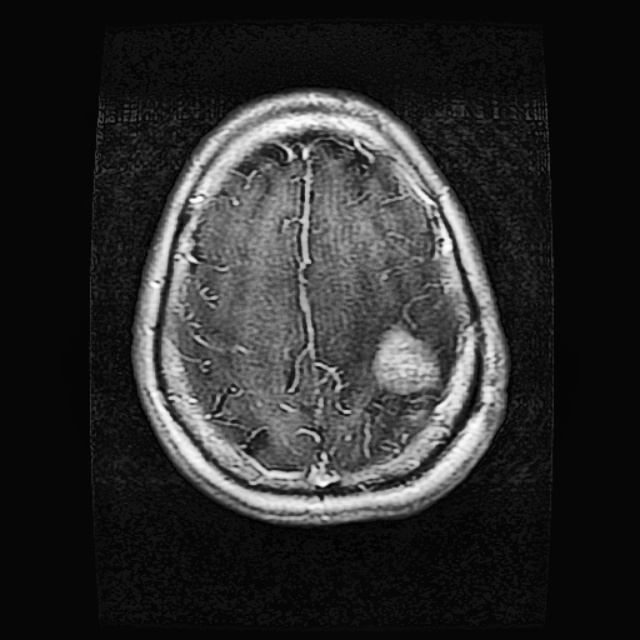Glioma: (373, 322, 445, 398)
